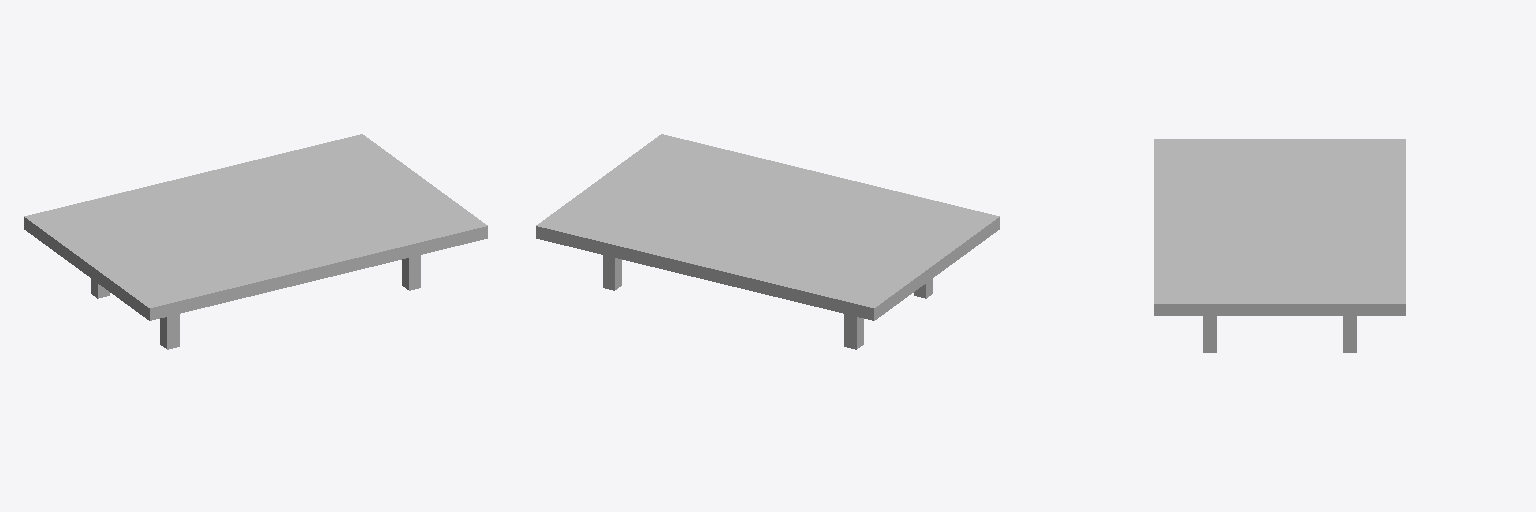
The model's file is table32.obj.
3 views of the same model, side by side, from view 1: azimuth 30°, elevation 25°; view 2: azimuth 150°, elevation 25°; view 3: azimuth 270°, elevation 25° (orthographic).
Visible parts, largest first — view 1: Cube.003; view 2: Cube.003; view 3: Cube.003.
Part boxes in pixels (x1,y1,x2,y2): Cube.003: (24,134,487,349); Cube.003: (536,134,999,349); Cube.003: (1154,139,1405,352).
Size of the model in its own units: 2.8 by 0.55 by 1.8.